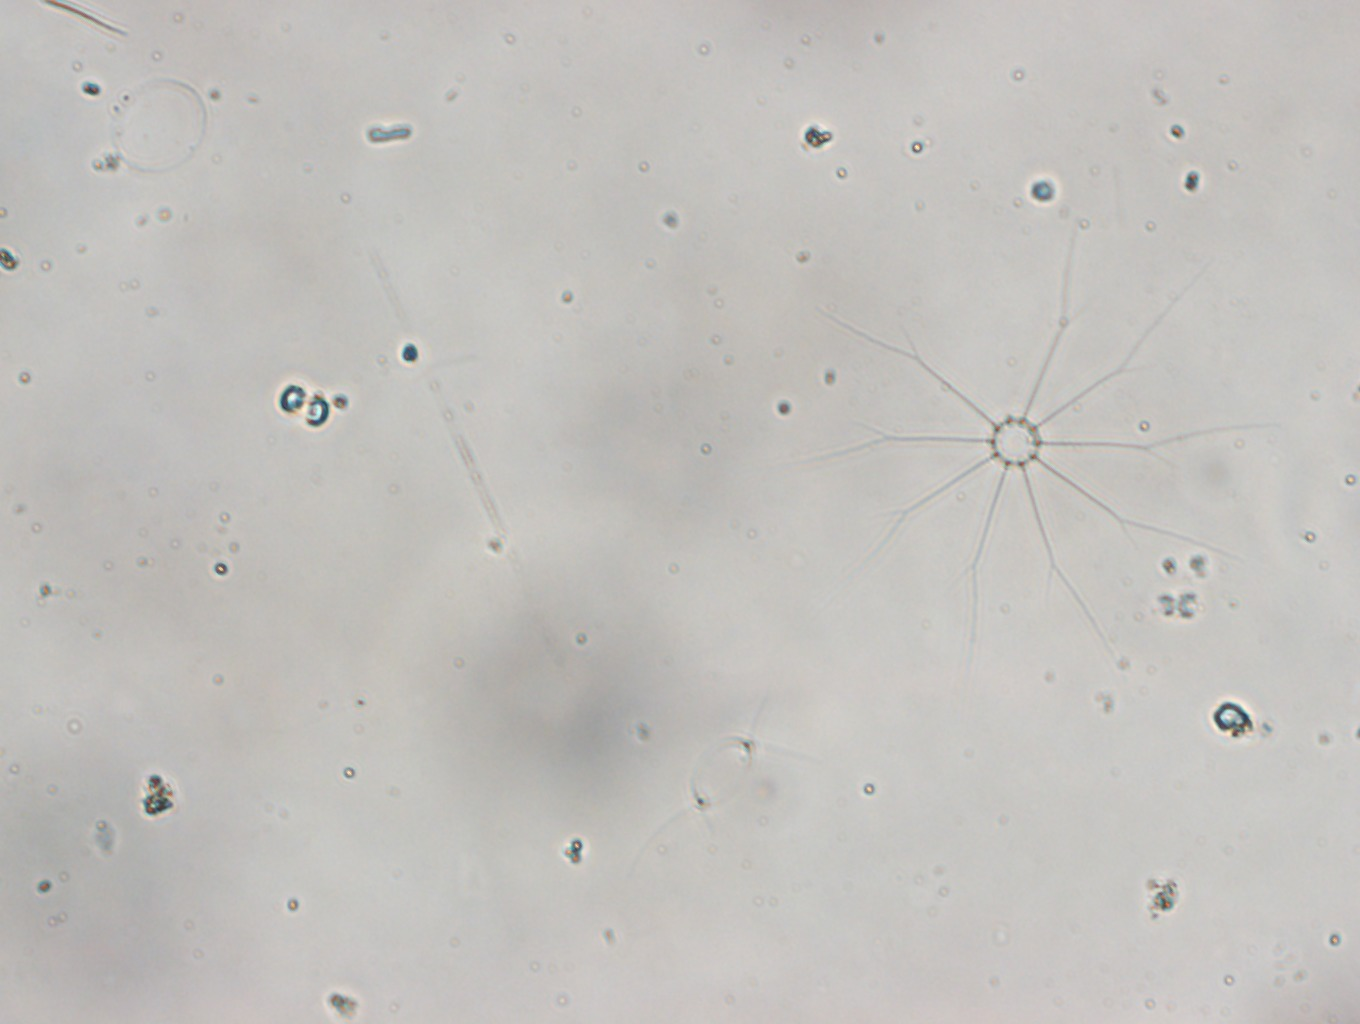bacteriastrum: (802, 217, 1263, 673)
